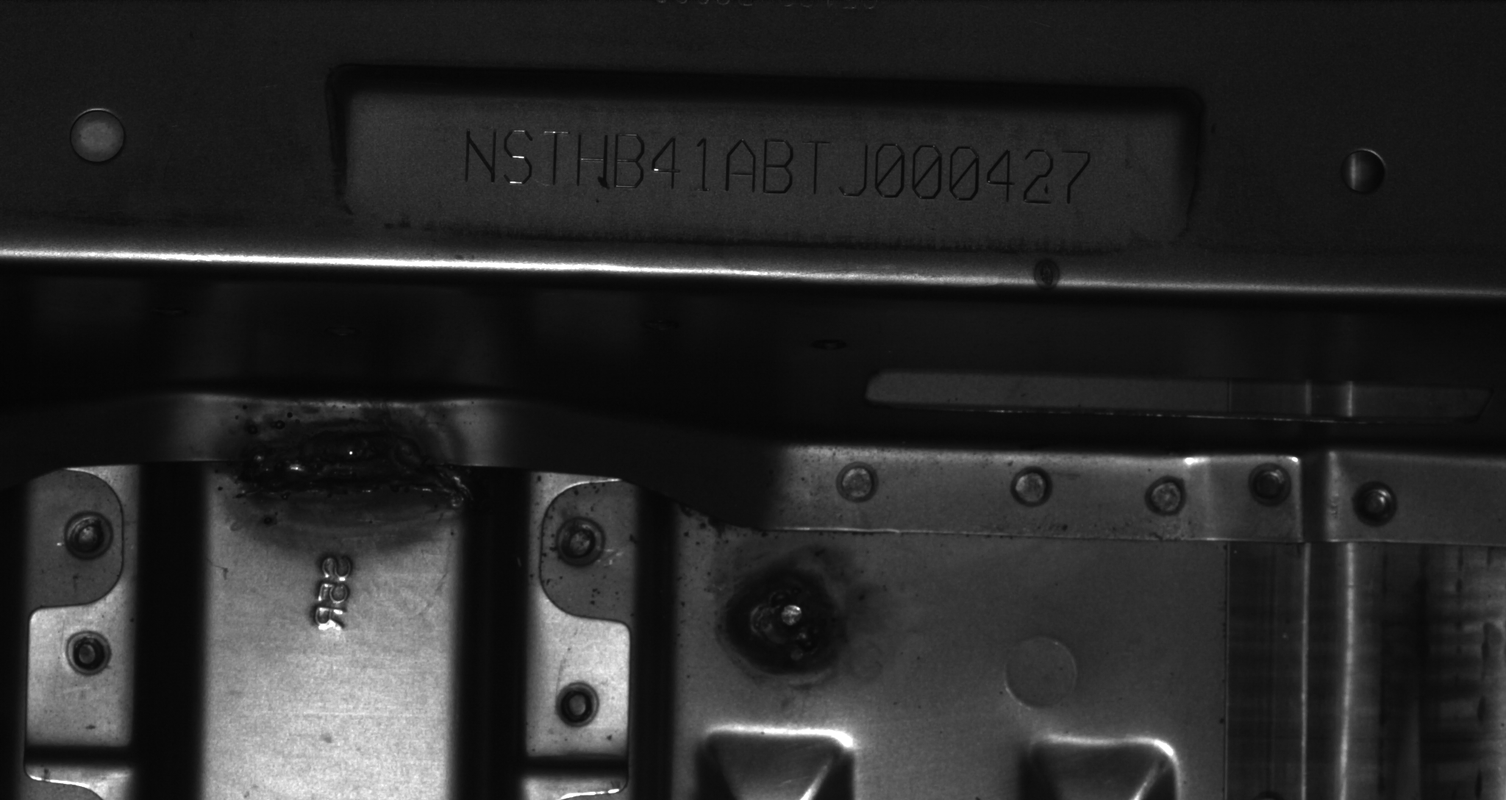bl7m_vin_plate: (347, 93, 1185, 246)
